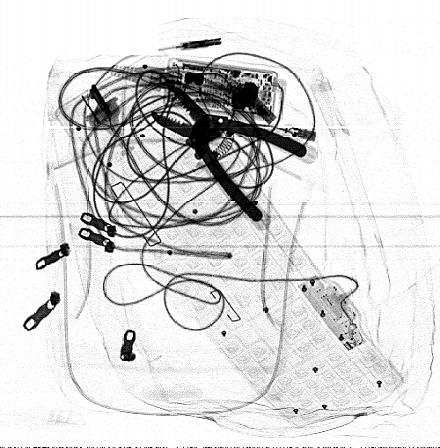Pliers: (149, 83, 310, 224)
